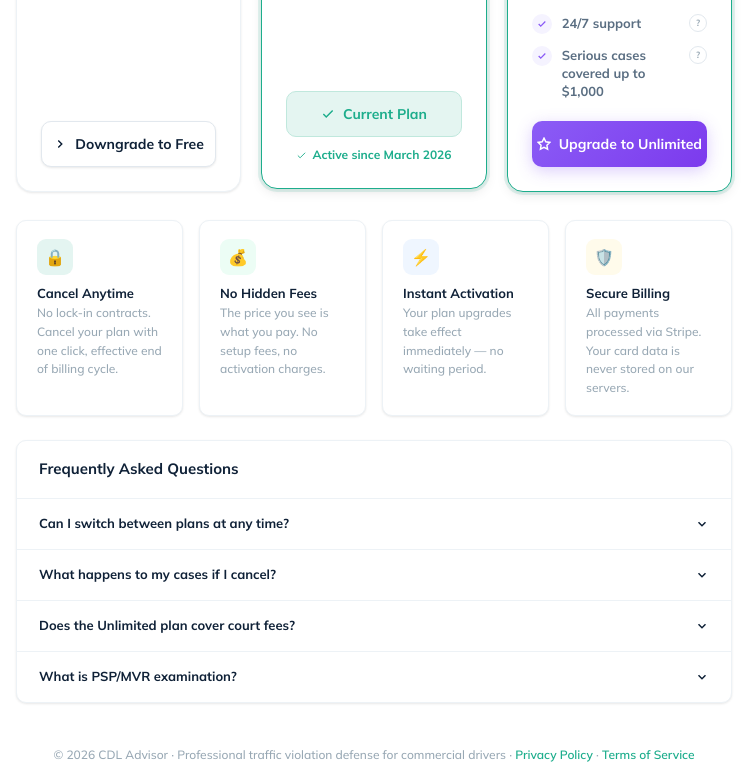
Test: SubscriptionManagementComponent › FAQ accordion › should expand answer when clicking question
The image size is (752, 779).
(page scrolled)
Click the button with class "faq-item" that starts with "Can I switch between plans at any time?": point(164, 523) [17,499,731,550]
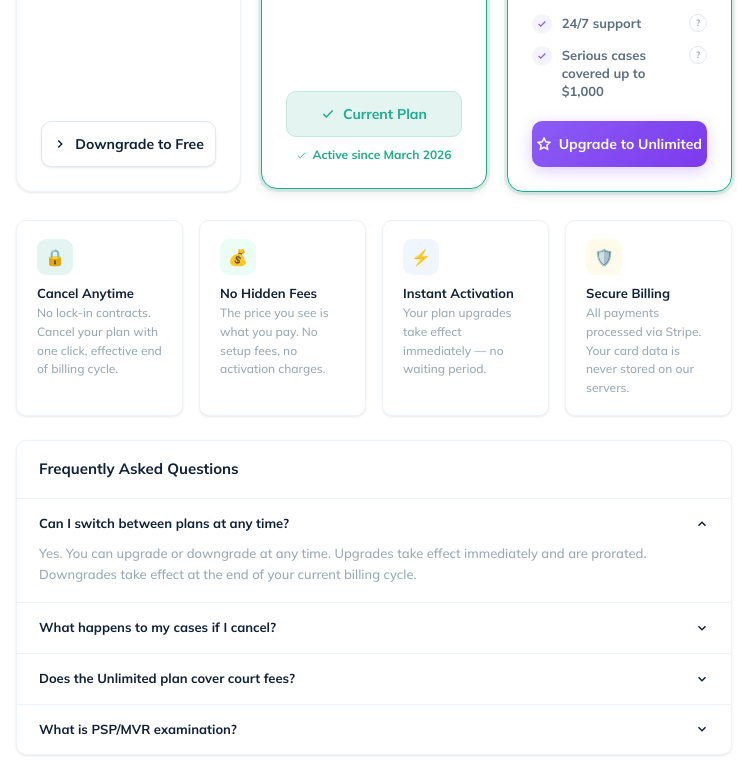
expect the number of elements with class "faq-a" is 1: met, box [39,543,709,586]
expect the text with class "faq-a" shows "upgrade or downgrade": met, box [39,545,646,582]
